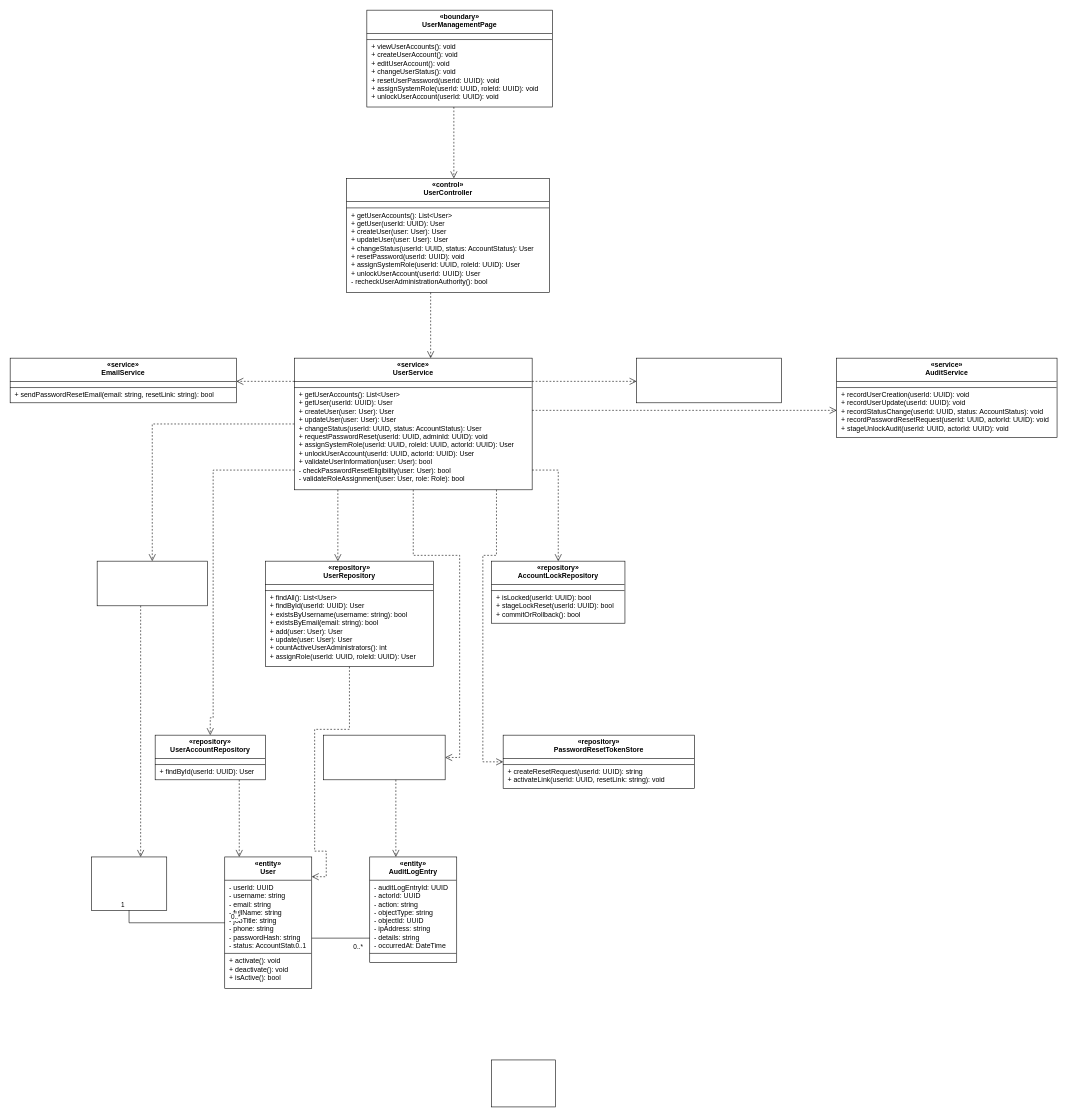
The diagram is 1067 pixels wide and 1117 high, and some of its shapes have lost their labels. The centre of each missing label's shape, as x and y in pixels:
«entity» Role - roleId: UUID - roleName: string: the point at 129,883
«enumeration» AccountStatus Active Inactive: the point at 523,1083
«repository» AuditLogRepository + add(entry: AuditLogEntry): void: the point at 384,757
«repository» RoleRepository + findById(roleId: UUID): Role: the point at 152,583
«service» SessionService + endActiveSessions(userId: UUID): void: the point at 709,380
